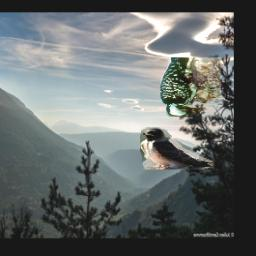Swallow: (140, 127, 215, 169)
Woodpecker: (159, 58, 220, 117)
